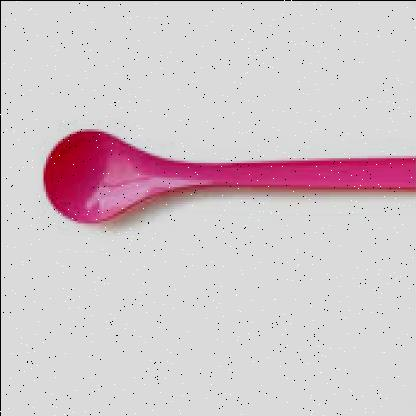Others: (38, 126, 414, 223)
